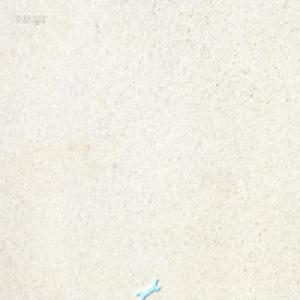Wrench: (136, 275, 160, 298)
